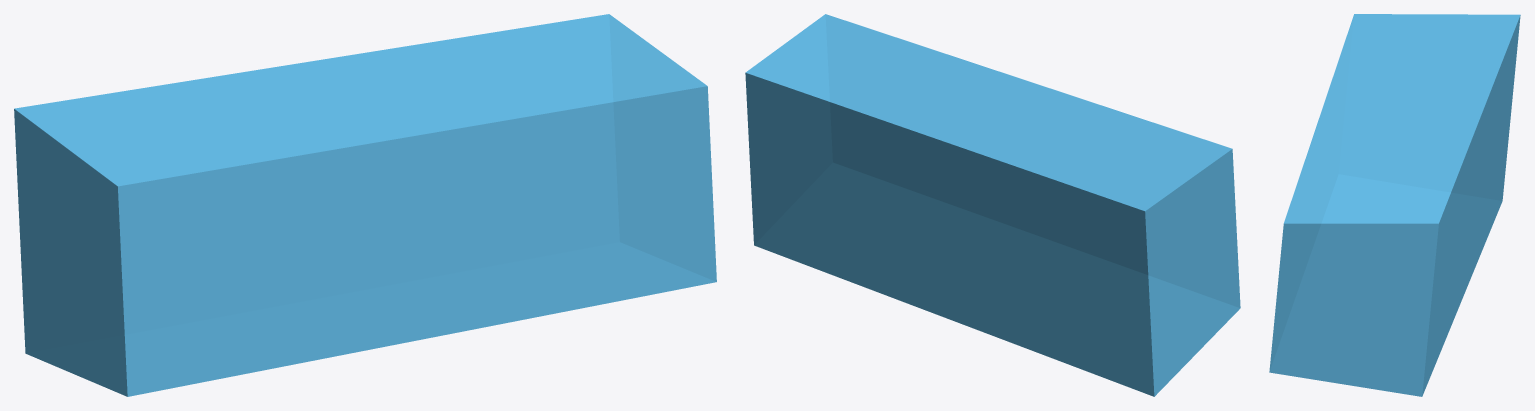
The model's file is Event_420107950_HErechit_13.fbx.
3 renders of one model, left to right at view 1: azimuth 30°, elevation 25°; view 2: azimuth 150°, elevation 25°; view 3: azimuth 270°, elevation 25°, orthographic. The views are drawn at different scales.
Parts seen in each view (by area): view 1: Model; view 2: Model; view 3: Model.
Part boxes in pixels (box(x1,y1,x2,y2)): Model: box(14, 14, 716, 396); Model: box(745, 14, 1240, 396); Model: box(1269, 14, 1520, 396).
Bounding box in the file's own units: 0.7562 × 0.3136 × 0.3832.
